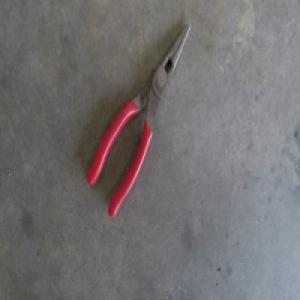Pliers: (87, 21, 191, 218)
